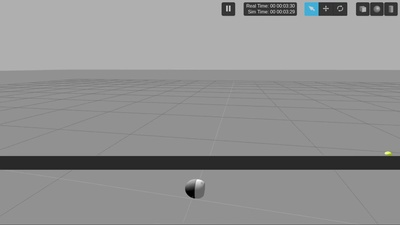mira_robot: (185, 178, 206, 199)
